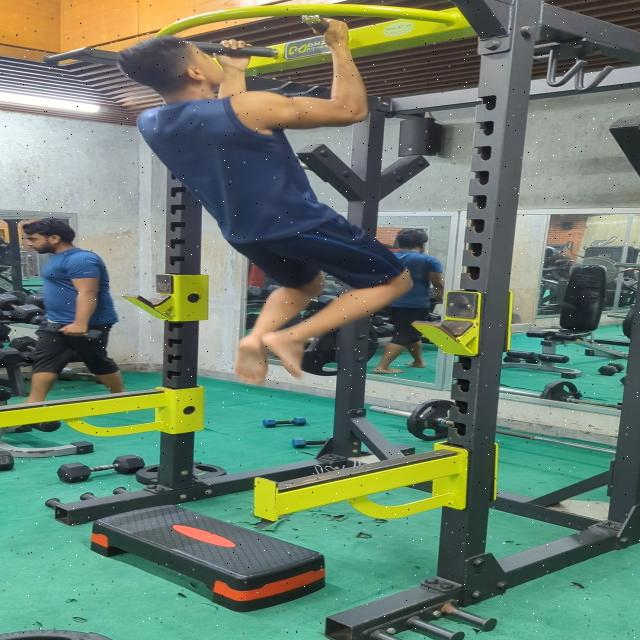Normal_PullUps: (110, 16, 426, 388)
